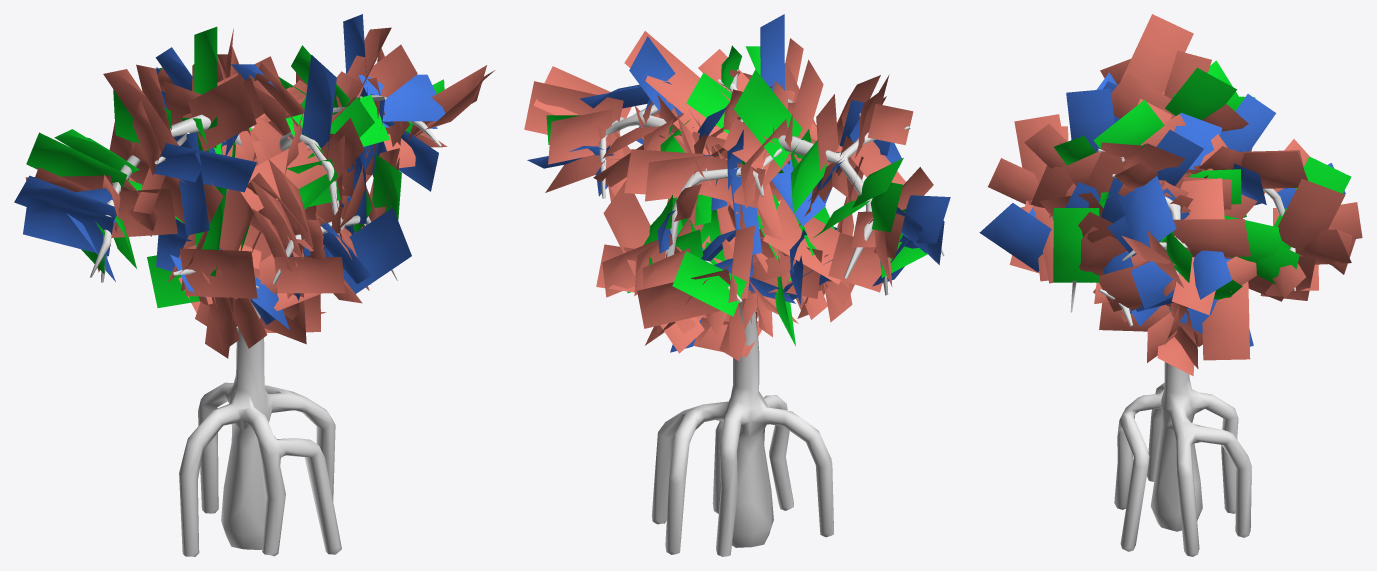
Rendered from swampBoom7.fbx.
3 views of the same model, side by side, from view 1: azimuth 30°, elevation 25°; view 2: azimuth 150°, elevation 25°; view 3: azimuth 270°, elevation 25° (orthographic). The views are drawn at different scales.
Visible parts, largest first — view 1: SwampBoom2_LOD0; view 2: SwampBoom2_LOD0; view 3: SwampBoom2_LOD0.
Boxes of the visible parts, x1,y1,x2,y2 form: SwampBoom2_LOD0: (14,14,494,556); SwampBoom2_LOD0: (524,14,950,556); SwampBoom2_LOD0: (979,14,1362,556).
Size of what is drawn, in the model's own units: 1281 by 1420 by 1084.
